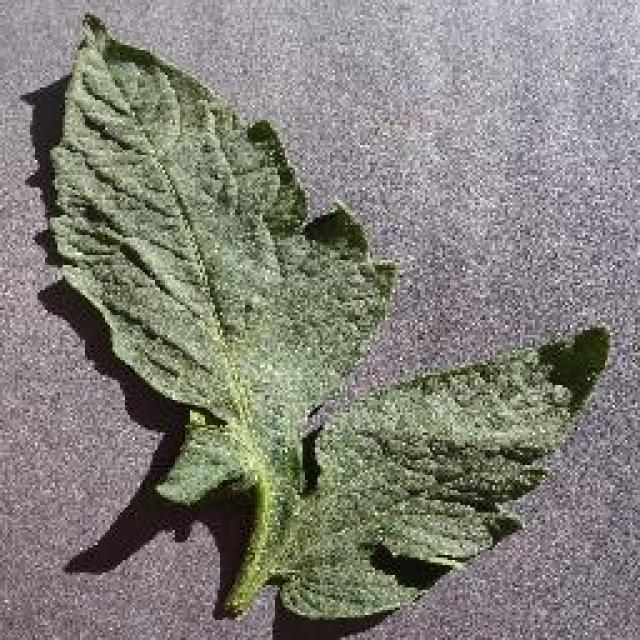Tomato healthy leaf: (38, 14, 608, 611)
